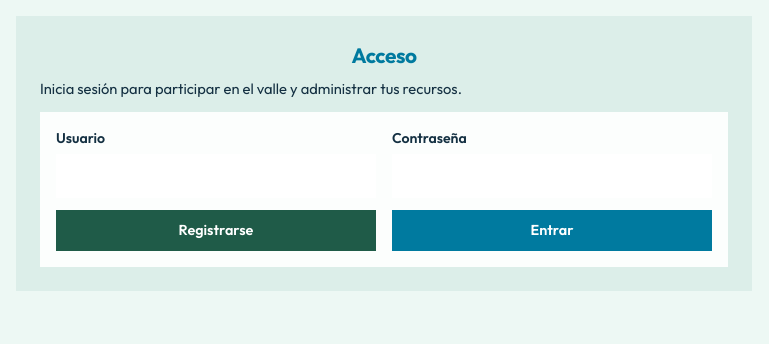
Test: AuthPanel › shows local error if submitted with empty credentials
The width and height of the screenshot is (769, 344).
Click the button "Registrarse": (216, 230) [56,210,376,251]
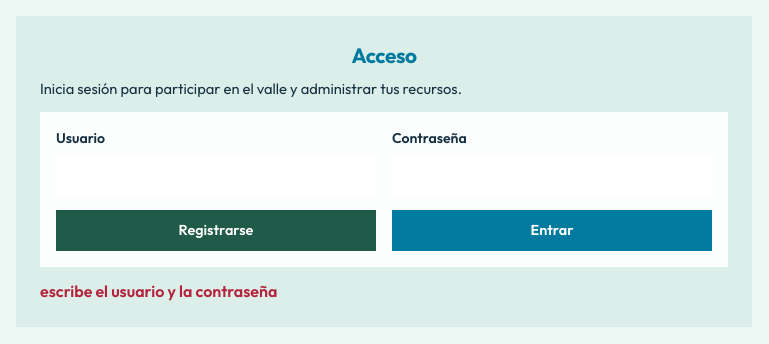
Now the text "escribe el usuario y la contraseña" is shown, box [40,281,277,301]
